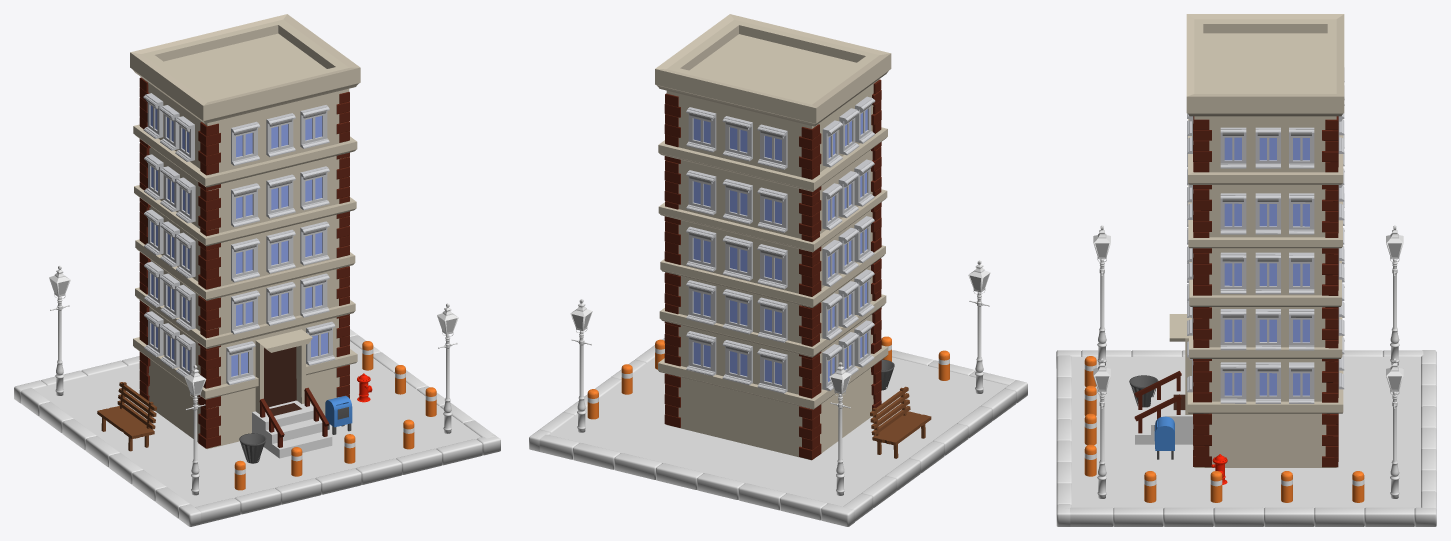
The model's file is build.fbx.
The picture shows the model from 3 angles, left to right: view 1: azimuth 30°, elevation 25°; view 2: azimuth 150°, elevation 25°; view 3: azimuth 270°, elevation 25°; orthographic projection. The views are drawn at different scales.
Visible parts, largest first — view 1: Bina, Pencere, zemin, Kaldırım, Tuğla, Merdiven, Old English Street Lamp, Engel, bank, posta kutusu, çöpk kutusu; view 2: Bina, Pencere, zemin, Tuğla, Kaldırım, Old English Street Lamp, bank, Engel; view 3: Bina, zemin, Pencere, Kaldırım, Tuğla, Old English Street Lamp, Engel, Merdiven, posta kutusu, çöpk kutusu.
Part boxes in pixels (x1,y1,x2,y2): Bina: [130, 14, 360, 449]; Pencere: [143, 93, 335, 385]; zemin: [34, 341, 480, 506]; Kaldırım: [14, 329, 500, 526]; Tuğla: [139, 77, 349, 448]; Merdiven: [252, 387, 332, 458]; Old English Street Lamp: [49, 265, 458, 495]; Engel: [234, 341, 436, 490]; bank: [97, 382, 156, 451]; posta kutusu: [325, 395, 352, 434]; çöpk kutusu: [239, 433, 266, 463]; Bina: [655, 14, 891, 460]; Pencere: [686, 96, 875, 393]; zemin: [549, 357, 1007, 506]; Tuğla: [664, 79, 881, 459]; Kaldırım: [529, 338, 1027, 526]; Old English Street Lamp: [570, 260, 990, 495]; bank: [870, 386, 931, 458]; Engel: [587, 336, 949, 419]; Bina: [1169, 14, 1344, 467]; zemin: [1071, 357, 1420, 508]; Pencere: [1187, 67, 1344, 403]; Kaldırım: [1056, 350, 1436, 526]; Tuğla: [1193, 116, 1338, 467]; Old English Street Lamp: [1093, 225, 1403, 498]; Engel: [1084, 356, 1364, 502]; Merdiven: [1134, 371, 1193, 444]; posta kutusu: [1154, 416, 1174, 459]; çöpk kutusu: [1129, 375, 1158, 407].
Size of the model in its own units: 1188 by 1307 by 1162.
